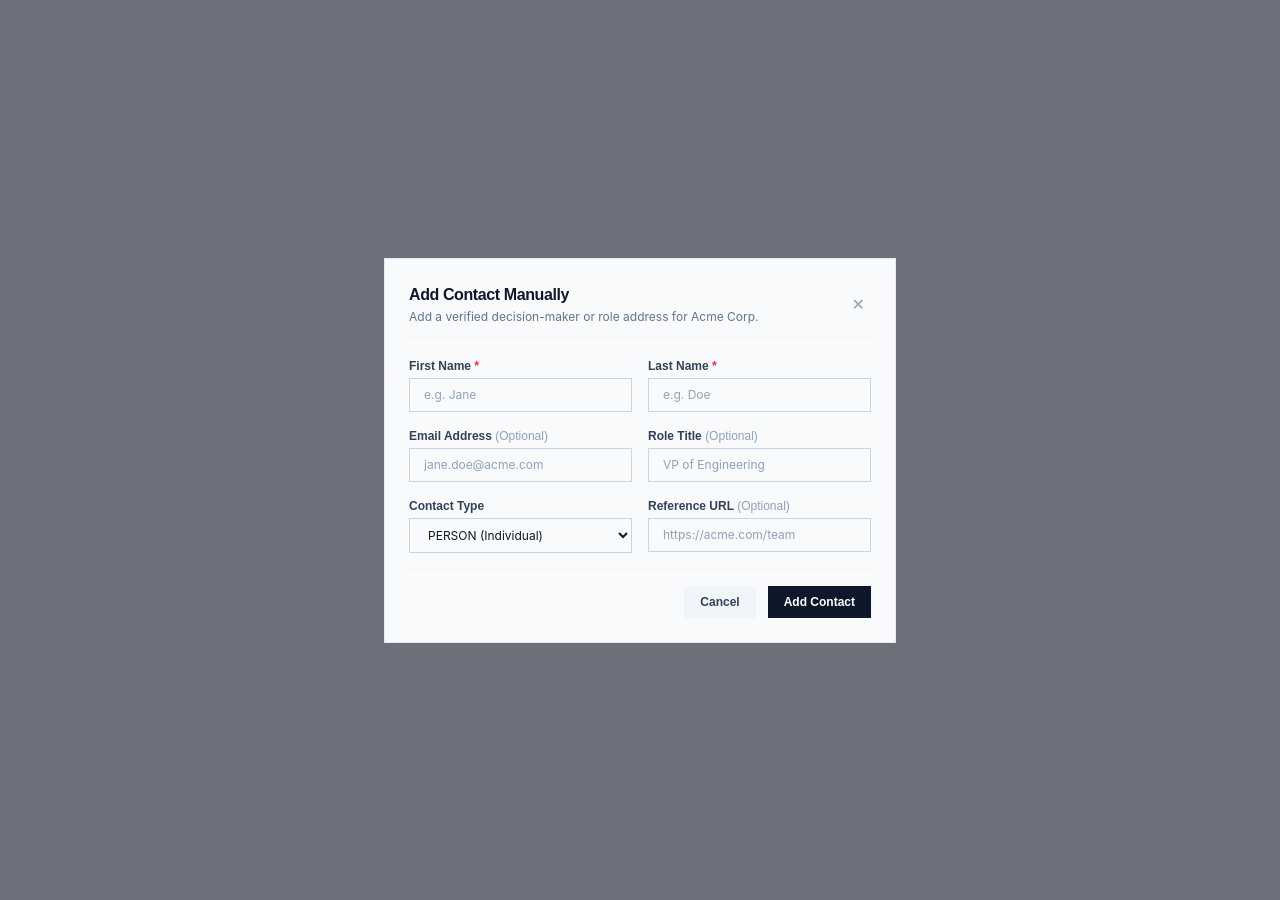
Test: AddContactModal Component - Milestone 07 Manual Contact Creation › validates required name field on submission
Click the button "Add Contact" at coordinates (819, 602), box [768,586,871,618]
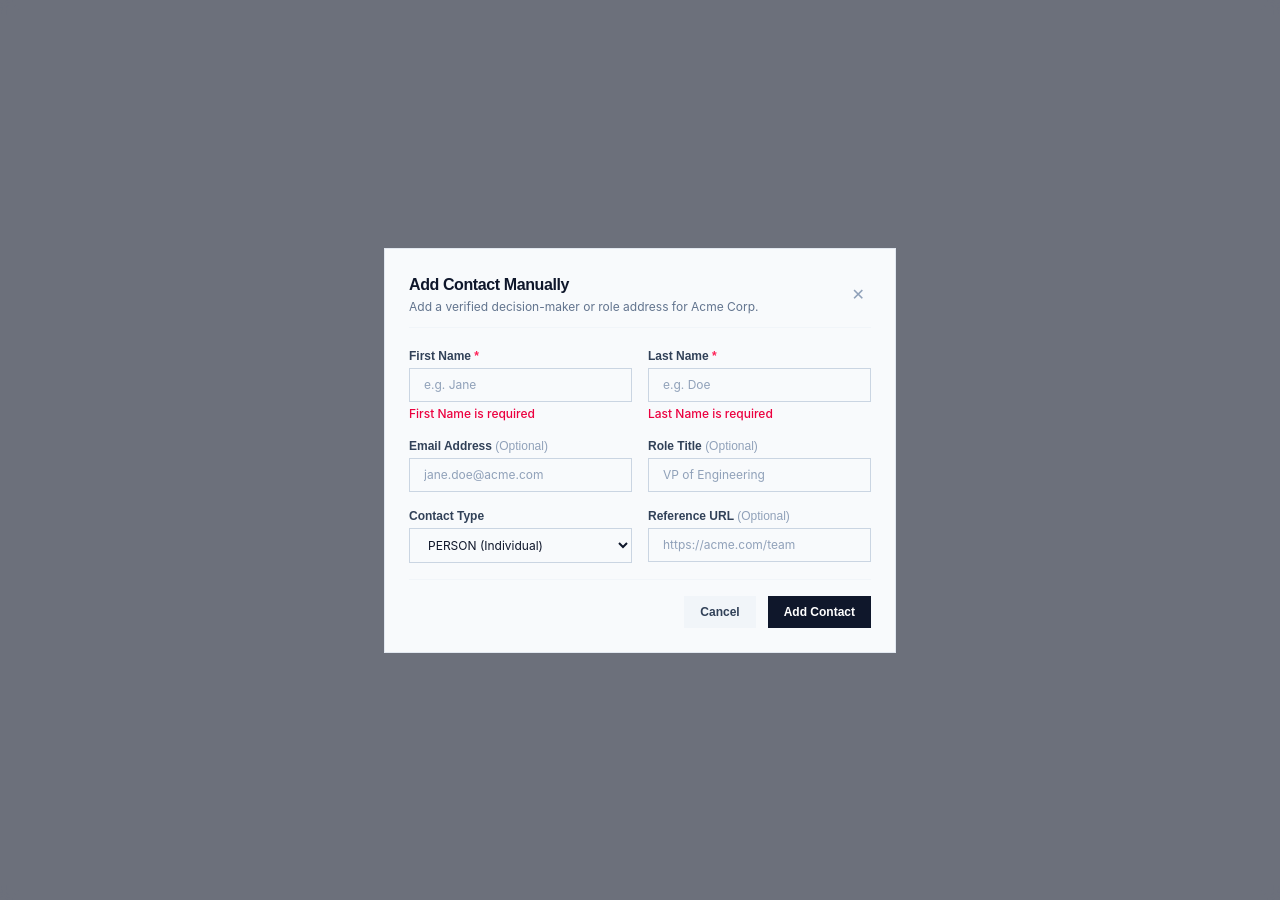
Check: the text "First Name is required" is shown, box [409,406,535,420]
